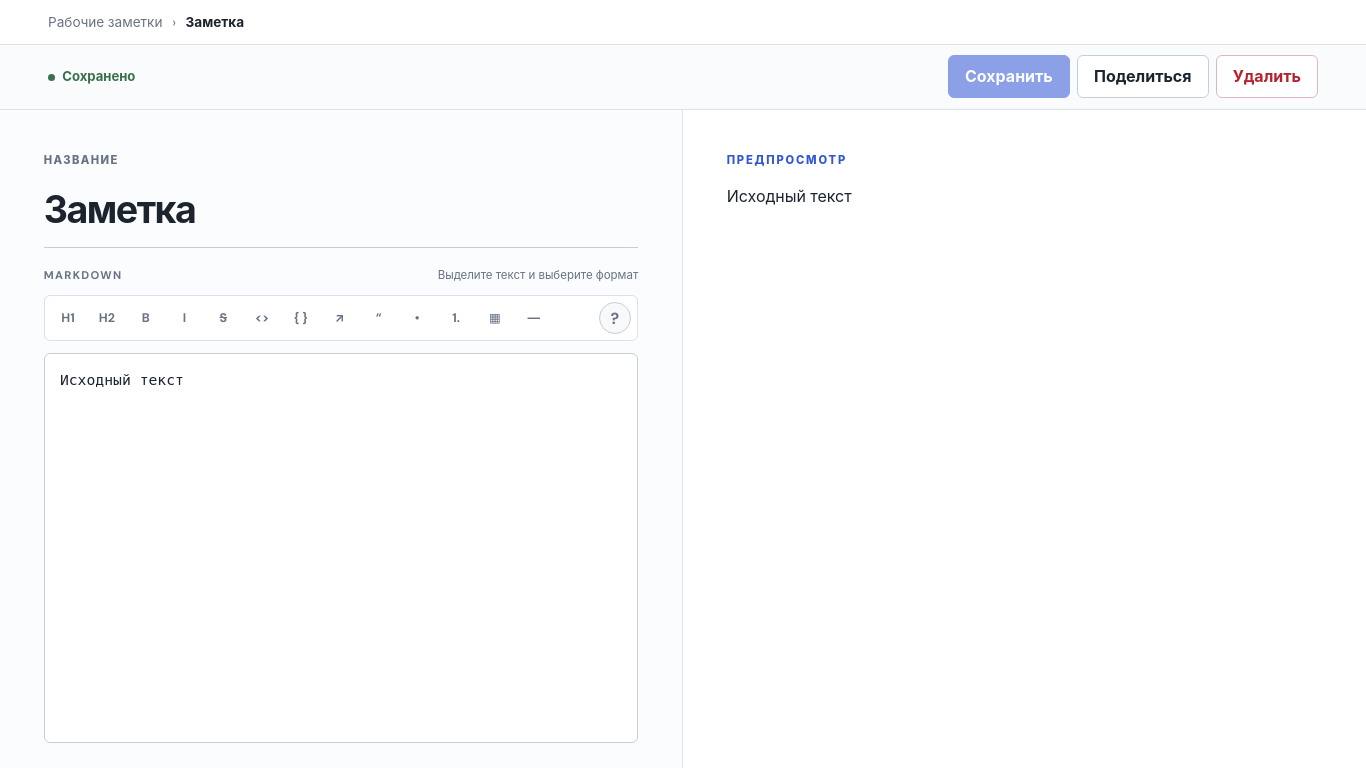
Scenario: NotePage autosave › formats selected text with the Markdown toolbar
Click the button named "Жирный": (146, 318) top-left (129, 302), bottom-right (163, 334)
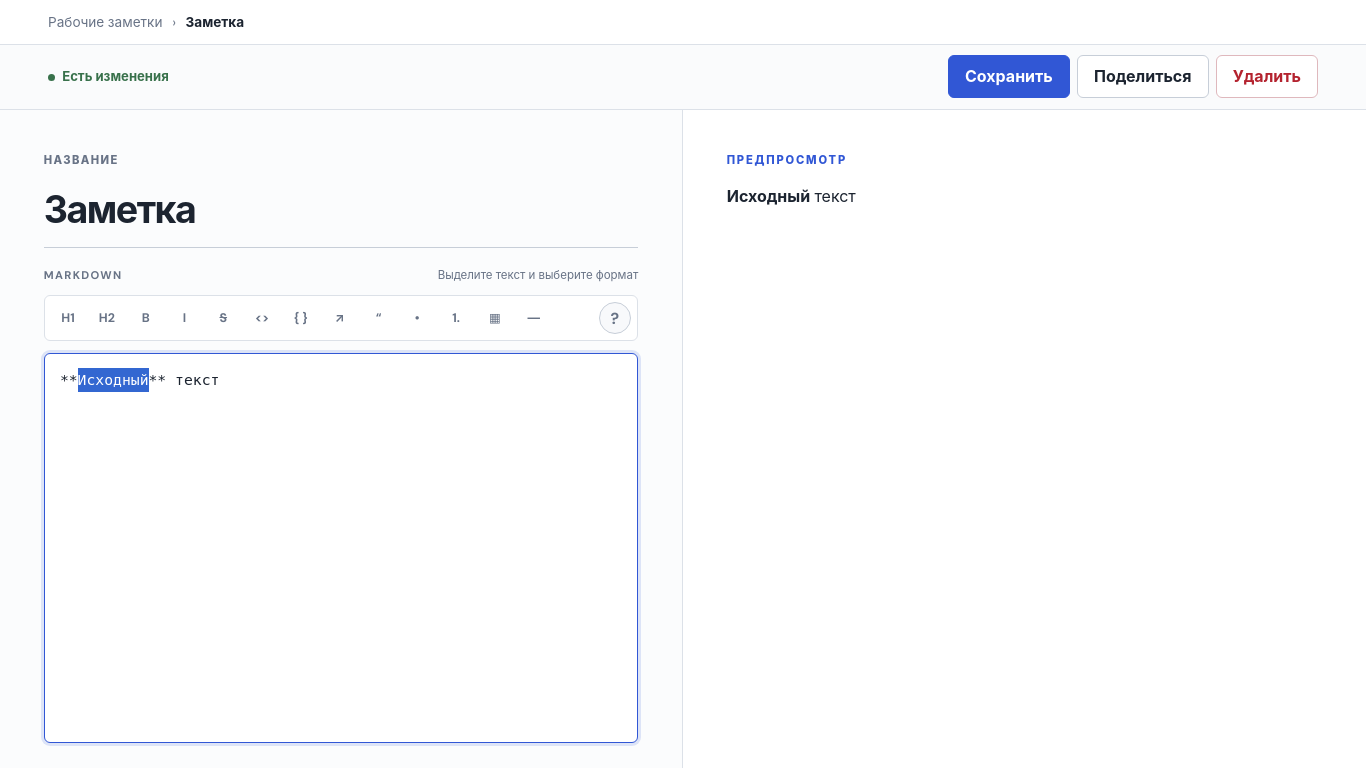
Now the text box labelled "Markdown" holds "**Исходный** текст", box top-left (44, 354), bottom-right (638, 744)
